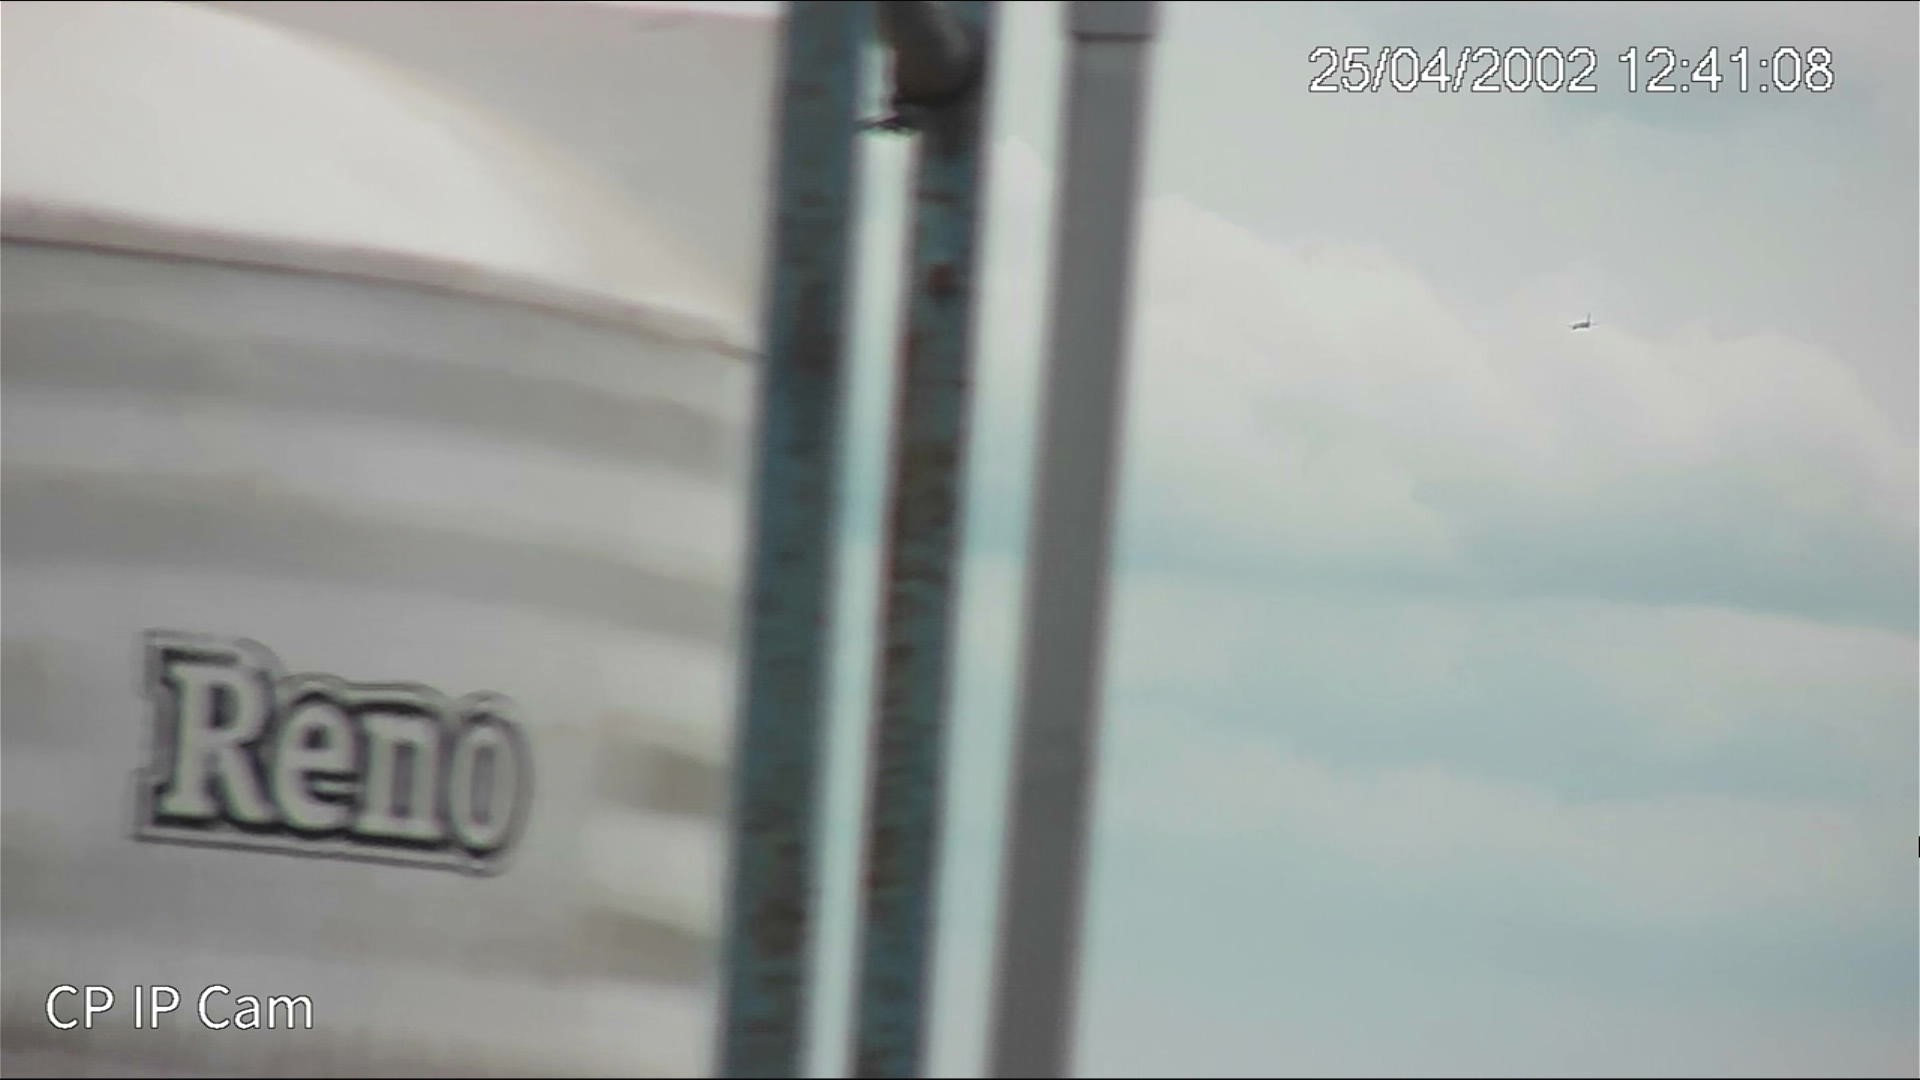SU_30: (1571, 315, 1596, 332)
